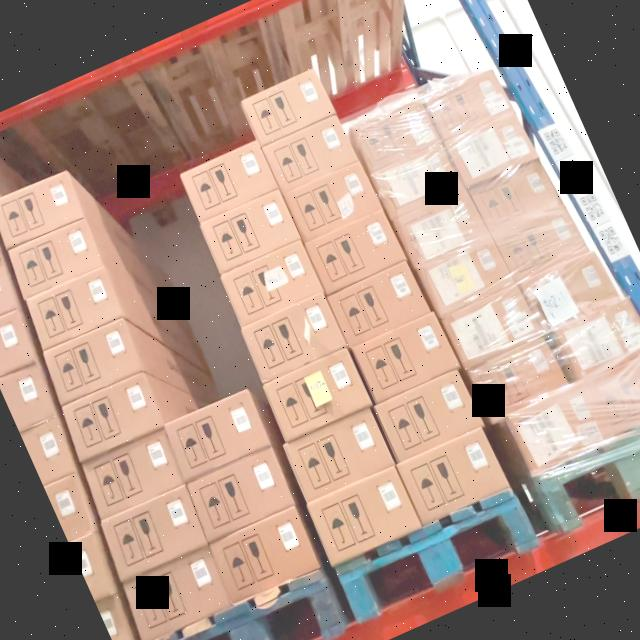box: (510, 347, 640, 469), (398, 426, 510, 525), (306, 466, 419, 564), (208, 507, 322, 604), (79, 431, 189, 525), (376, 370, 484, 462), (284, 408, 392, 500), (262, 347, 371, 438), (121, 550, 230, 640), (99, 488, 209, 576), (242, 294, 348, 382), (164, 388, 270, 476), (189, 452, 295, 540), (61, 374, 166, 460), (354, 312, 456, 400), (220, 241, 324, 325), (283, 159, 383, 245), (199, 190, 301, 274), (468, 334, 566, 418), (307, 208, 406, 291), (26, 268, 124, 351), (329, 264, 428, 346), (442, 284, 540, 366), (418, 237, 516, 319), (42, 320, 141, 401), (180, 140, 275, 220), (8, 219, 103, 299), (394, 188, 486, 266), (241, 70, 334, 146), (496, 204, 586, 282), (522, 252, 614, 328), (557, 297, 640, 379), (0, 168, 87, 246), (446, 109, 534, 186), (264, 116, 354, 190), (472, 158, 558, 232), (426, 68, 512, 140), (373, 145, 459, 217), (352, 99, 438, 170)
